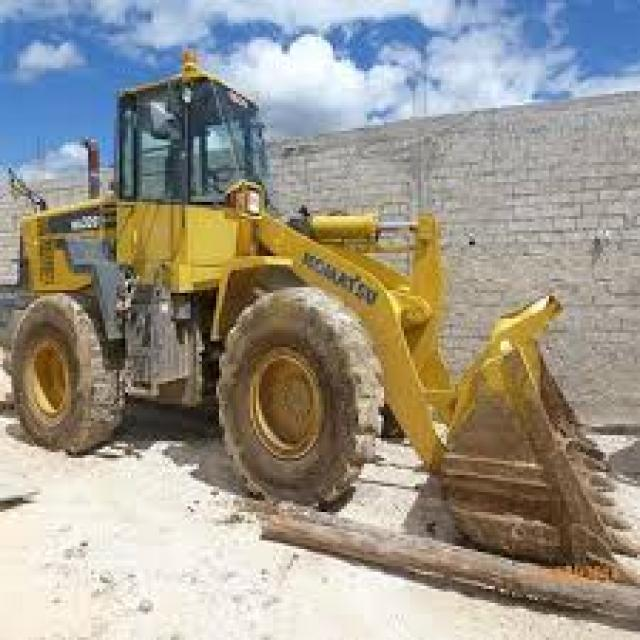buldozerpayloadergrader: (7, 64, 640, 587)
